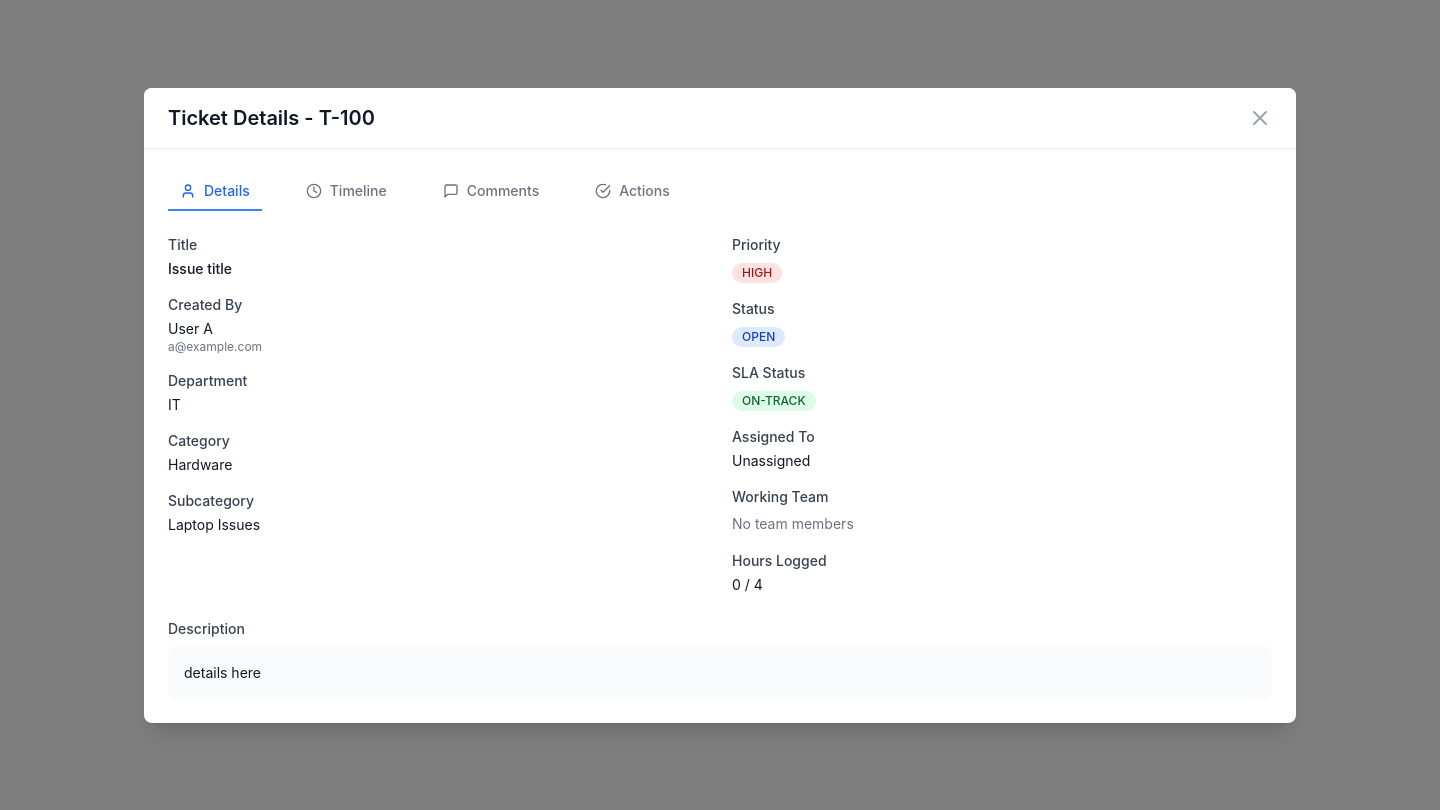
EnhancedTicketModal › renders details, timeline and comments tabs
This screenshot has width=1440, height=810.
Check: the text "Issue title" is shown, box [168, 260, 232, 276]
Check: the text "details here" is shown, box [184, 664, 261, 680]
# Switch to Timeline
Click the button "Timeline". click: (346, 192)
box: [294, 172, 399, 210]
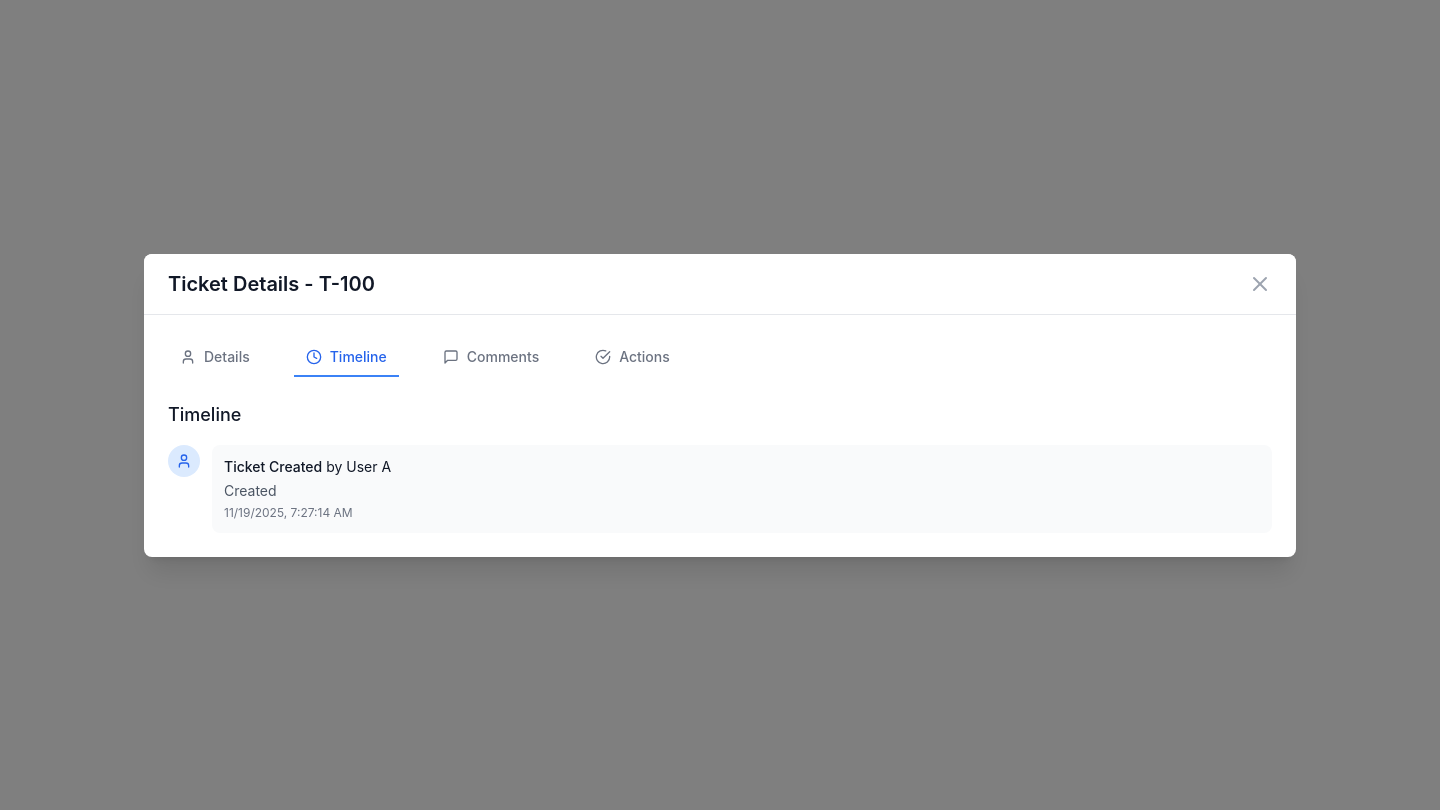
Check: the text "Ticket Created" is shown, box [224, 458, 322, 474]
# Switch to Comments
Click the button "Comments". click: (491, 358)
box: [431, 338, 551, 376]
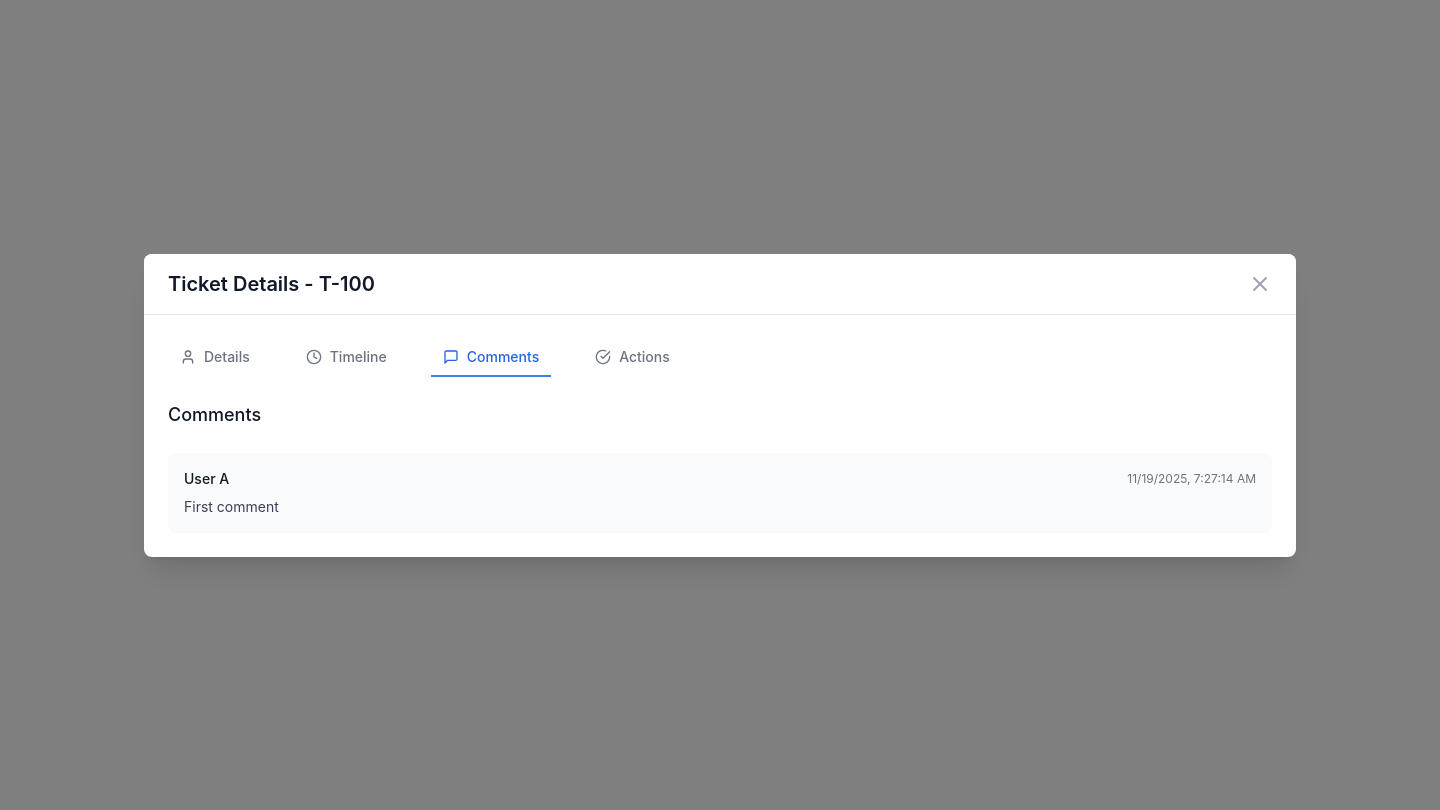
Check: the text "First comment" is shown, box [184, 498, 279, 514]
